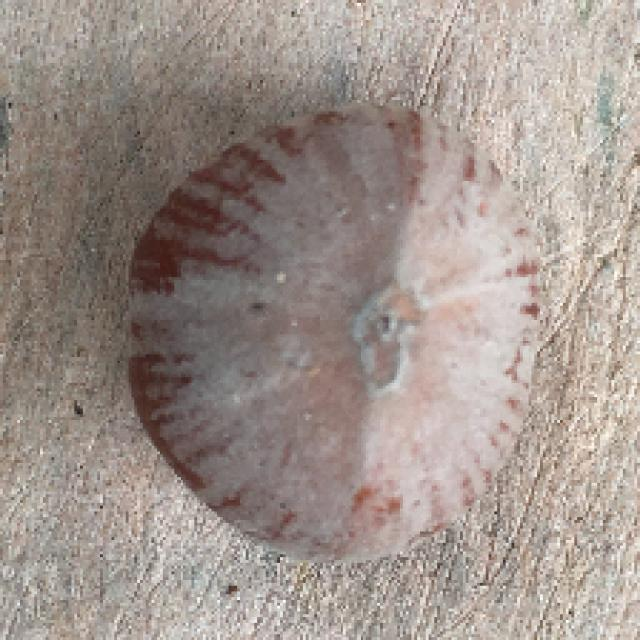qualityHazelnut: (117, 91, 556, 573)
